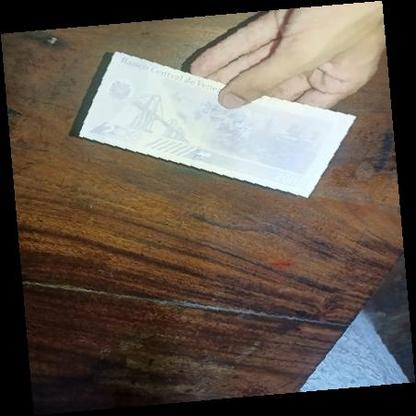two_hundred-back-vef: (76, 49, 358, 199)
